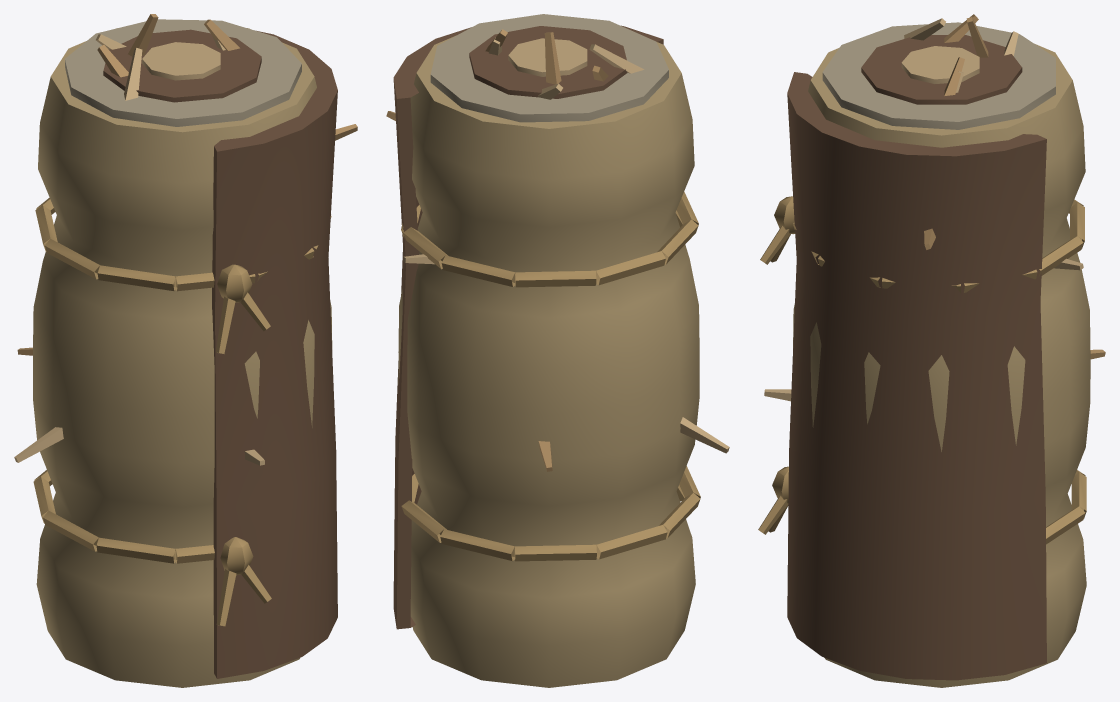
File: SM_LPD_Furn_KitBedroll_01.fbx
The picture shows the model from 3 angles, left to right: view 1: azimuth 30°, elevation 25°; view 2: azimuth 150°, elevation 25°; view 3: azimuth 270°, elevation 25°; orthographic projection.
Visible parts, largest first — view 1: SM_LPD_Furn_KitBedroll_01; view 2: SM_LPD_Furn_KitBedroll_01; view 3: SM_LPD_Furn_KitBedroll_01.
Part boxes in pixels (bbox=[...]): SM_LPD_Furn_KitBedroll_01: bbox=[14, 14, 357, 687]; SM_LPD_Furn_KitBedroll_01: bbox=[386, 14, 729, 687]; SM_LPD_Furn_KitBedroll_01: bbox=[758, 14, 1105, 687].
Bounding box in the file's own units: 0.4455 × 0.7633 × 0.3968.
